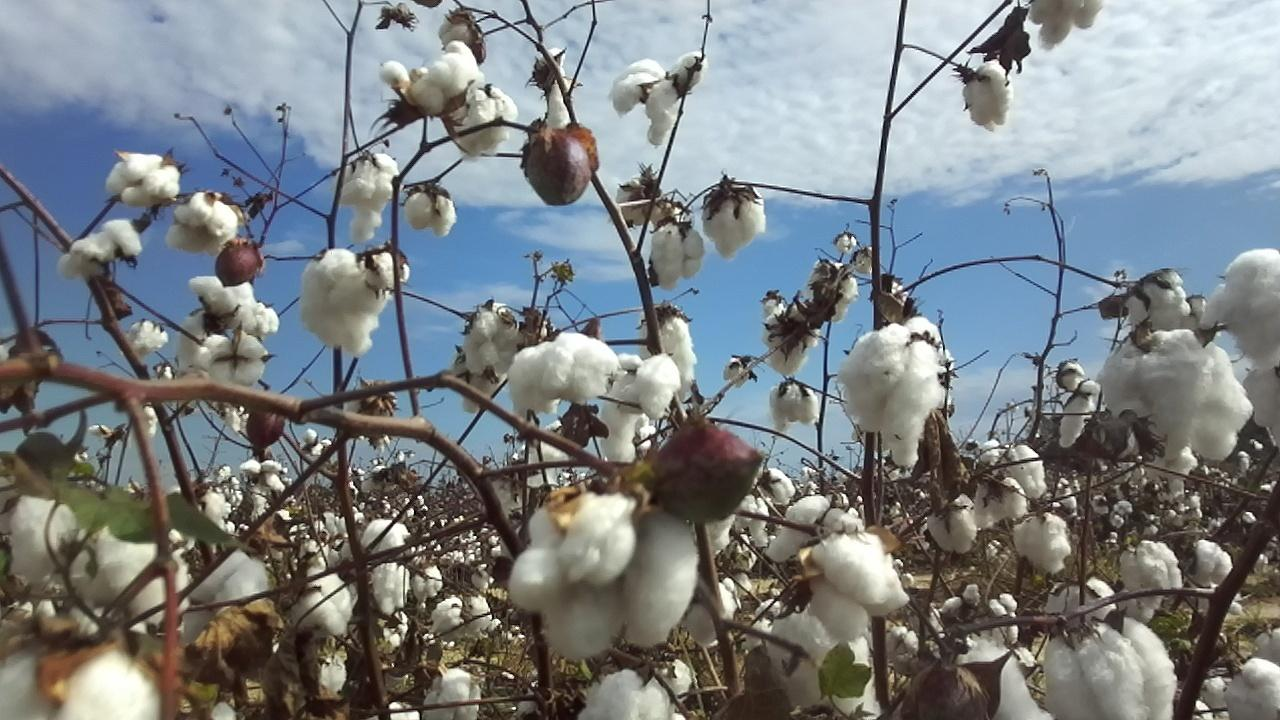cotton_ready: (507, 490, 700, 659), (9, 483, 195, 619), (1098, 329, 1250, 465), (834, 318, 947, 469), (1207, 245, 1280, 447), (1050, 615, 1179, 720), (772, 610, 880, 720), (808, 537, 910, 652), (0, 652, 162, 720), (508, 330, 622, 417), (299, 249, 387, 357), (600, 350, 680, 463), (607, 50, 702, 143), (175, 549, 272, 640), (960, 639, 1060, 720), (1129, 270, 1218, 343), (770, 495, 865, 561), (397, 42, 479, 118), (337, 150, 400, 243), (449, 85, 519, 167), (576, 665, 679, 720), (56, 219, 140, 284), (188, 277, 282, 334), (701, 184, 765, 263), (363, 522, 414, 617), (163, 194, 239, 257), (641, 317, 699, 397), (283, 573, 352, 640), (1028, 0, 1104, 52), (465, 305, 519, 377), (105, 154, 179, 205), (764, 307, 820, 374), (1222, 657, 1280, 720), (1120, 542, 1184, 599), (964, 61, 1012, 135), (204, 334, 268, 387), (431, 594, 497, 644), (984, 445, 1046, 495), (1019, 515, 1070, 575), (423, 670, 484, 720), (928, 497, 979, 554), (404, 187, 459, 239), (972, 482, 1028, 533), (808, 261, 857, 319), (537, 47, 571, 129), (1184, 537, 1233, 590), (772, 385, 824, 430)
